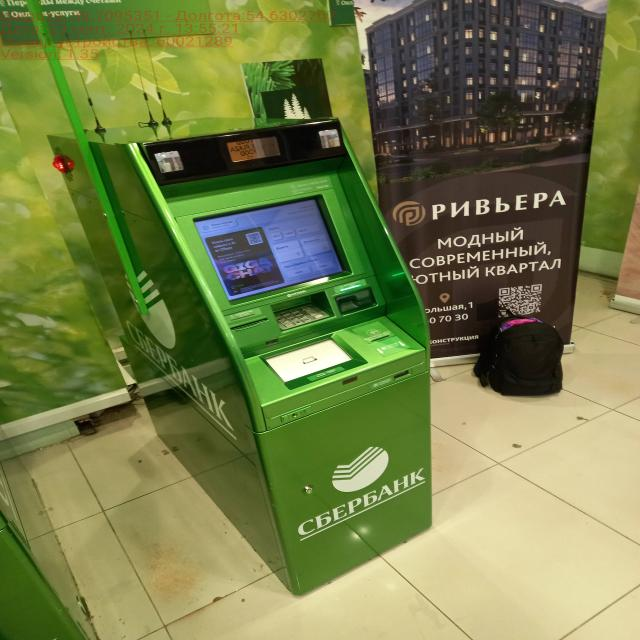bank: (46, 113, 463, 590)
